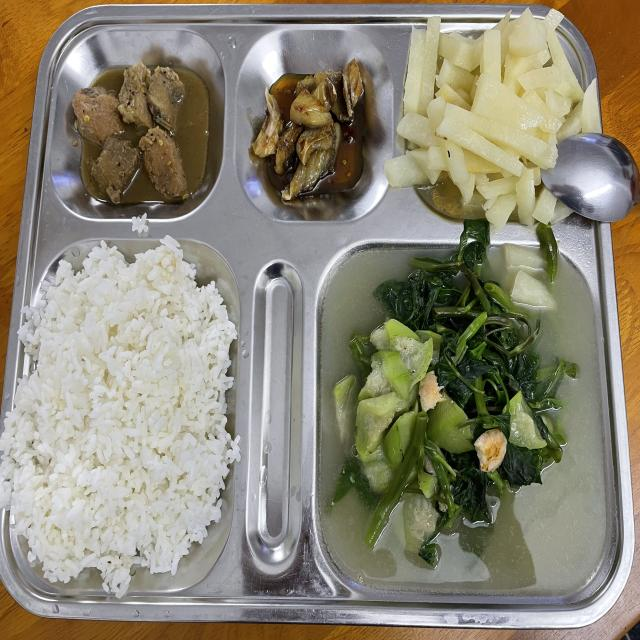bo xao: (72, 61, 189, 204)
canh cai: (322, 244, 606, 590)
com: (0, 238, 240, 597)
